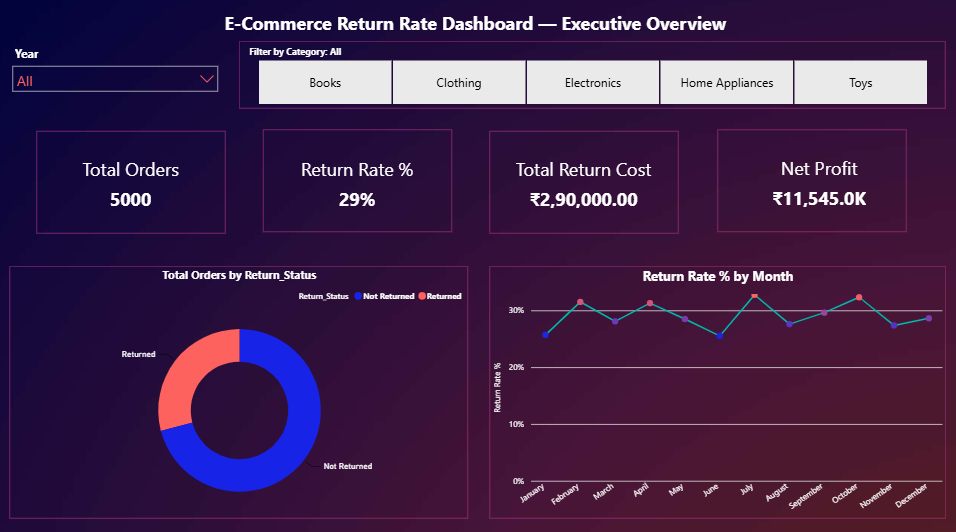

Layout of this report page (visuals, bound fields, positions):
{"tool":"powerbi","page":{"name":"Executive Overview","canvas":[1280,720],"ordinal":0},"visuals":[{"type":"textbox","box":[179.3,13.9,918.2,55.8],"z":0},{"type":"lineChart","fields":{"Category":["Orders.Year_Month.Variation.Date Hierarchy.Month"],"Y":["Orders.Return Rate %"]},"box":[657.5,359.5,608.4,336.5],"z":1000},{"type":"donutChart","fields":{"Category":["Orders.Return_Status"],"Y":["Orders.Total Orders"]},"box":[18.4,359.5,611.5,336.5],"z":2000},{"type":"slicer","fields":{"Values":["Orders.Product_Category"]},"box":[324,60,942,90],"z":3000},{"type":"slicer","title":"Year","fields":{"Values":["Orders.Year"]},"box":[12.9,60,294.3,68.6],"z":4000},{"type":"shape","box":[53.8,179.7,252,136.7],"z":5000},{"type":"shape","box":[356,178,252,136.7],"z":6000},{"type":"shape","box":[658,180,252,136.7],"z":7000},{"type":"shape","box":[962,178,252,136.7],"z":8000},{"type":"cardVisual","fields":{"Data":["Orders.Total Orders"]},"box":[53.8,201.3,252,96.8],"z":9000},{"type":"cardVisual","fields":{"Data":["Orders.Return Rate %"]},"box":[356,202,252,96.8],"z":10000},{"type":"cardVisual","fields":{"Data":["Orders.Total Return Cost"]},"box":[658,202,252,96.8],"z":11000},{"type":"cardVisual","fields":{"Data":["Orders.Net Profit"]},"box":[972,200,252,96.8],"z":12000}]}

Visuals, with their boxes in screenshot pixels (x1, y1, x2, y2), scaled from the page's 1280x720 canvas onto the 956x532 screenshot:
textbox: x1=134 y1=10 x2=820 y2=52
lineChart - Orders.Year_Month.Variation.Date Hierarchy.Month x Orders.Return Rate %: x1=491 y1=266 x2=945 y2=514
donutChart - Orders.Return_Status x Orders.Total Orders: x1=14 y1=266 x2=470 y2=514
slicer - Orders.Product_Category: x1=242 y1=44 x2=946 y2=111
"Year" slicer: x1=10 y1=44 x2=229 y2=95
shape: x1=40 y1=133 x2=228 y2=234
shape: x1=266 y1=132 x2=454 y2=233
shape: x1=491 y1=133 x2=680 y2=234
shape: x1=718 y1=132 x2=907 y2=233
cardVisual - Orders.Total Orders: x1=40 y1=149 x2=228 y2=220
cardVisual - Orders.Return Rate %: x1=266 y1=149 x2=454 y2=221
cardVisual - Orders.Total Return Cost: x1=491 y1=149 x2=680 y2=221
cardVisual - Orders.Net Profit: x1=726 y1=148 x2=914 y2=219
